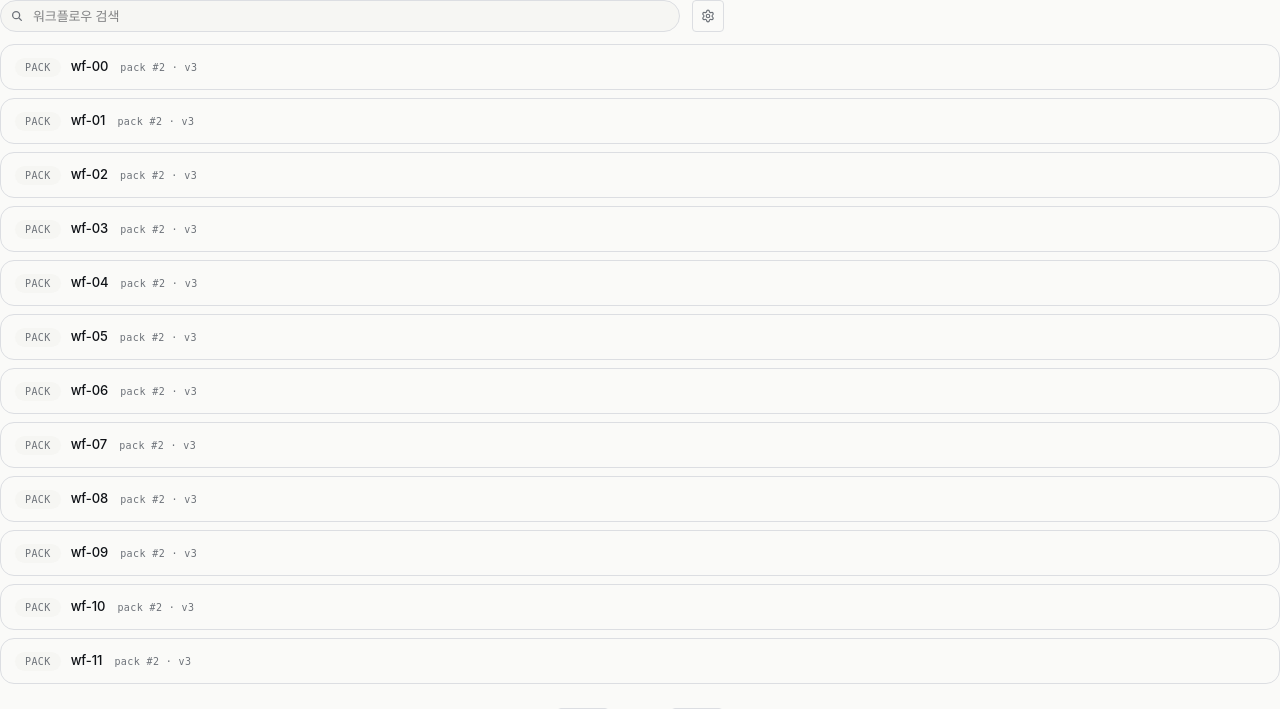
it: WorkflowListView › settings 톱니 토글로 panel 펼침/접힘
Click the button with test id "wl-settings-toggle" at (708, 16), box [692,0,724,32]
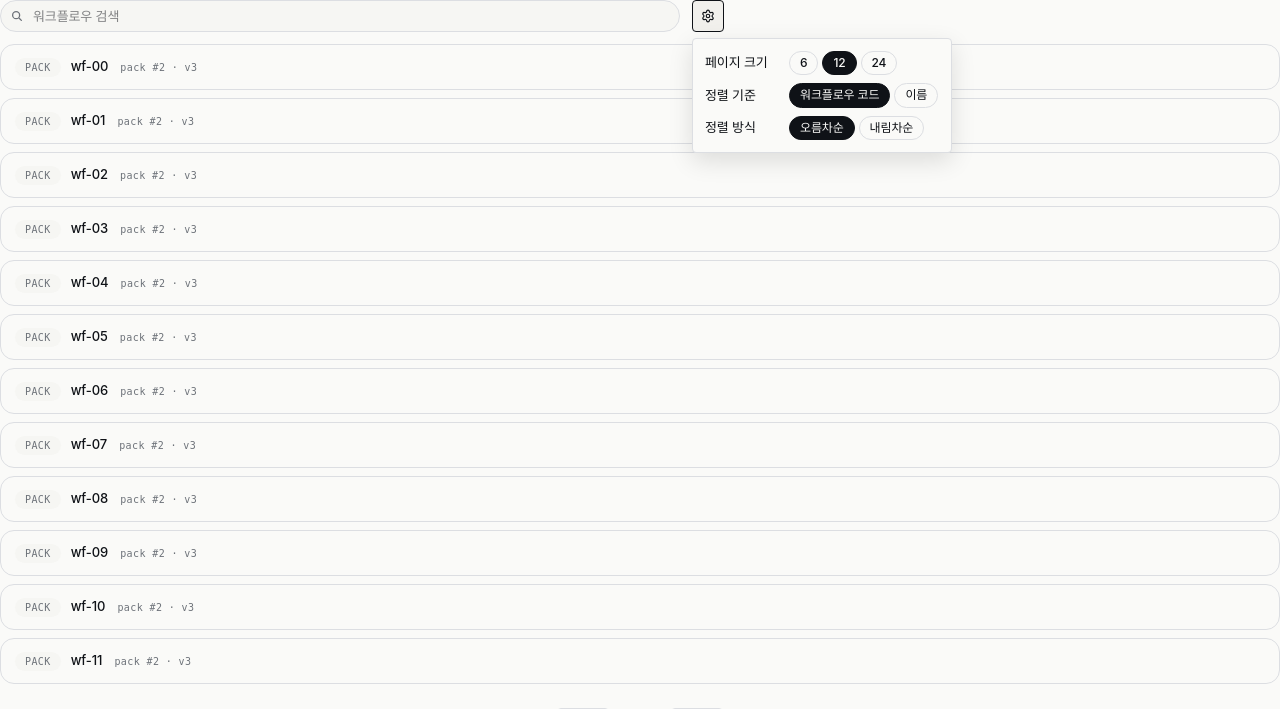
Result: the dialog with test id "wl-settings" is shown at [692,38,952,153]
Click the button with test id "wl-settings-toggle" at (708, 16), box [692,0,724,32]
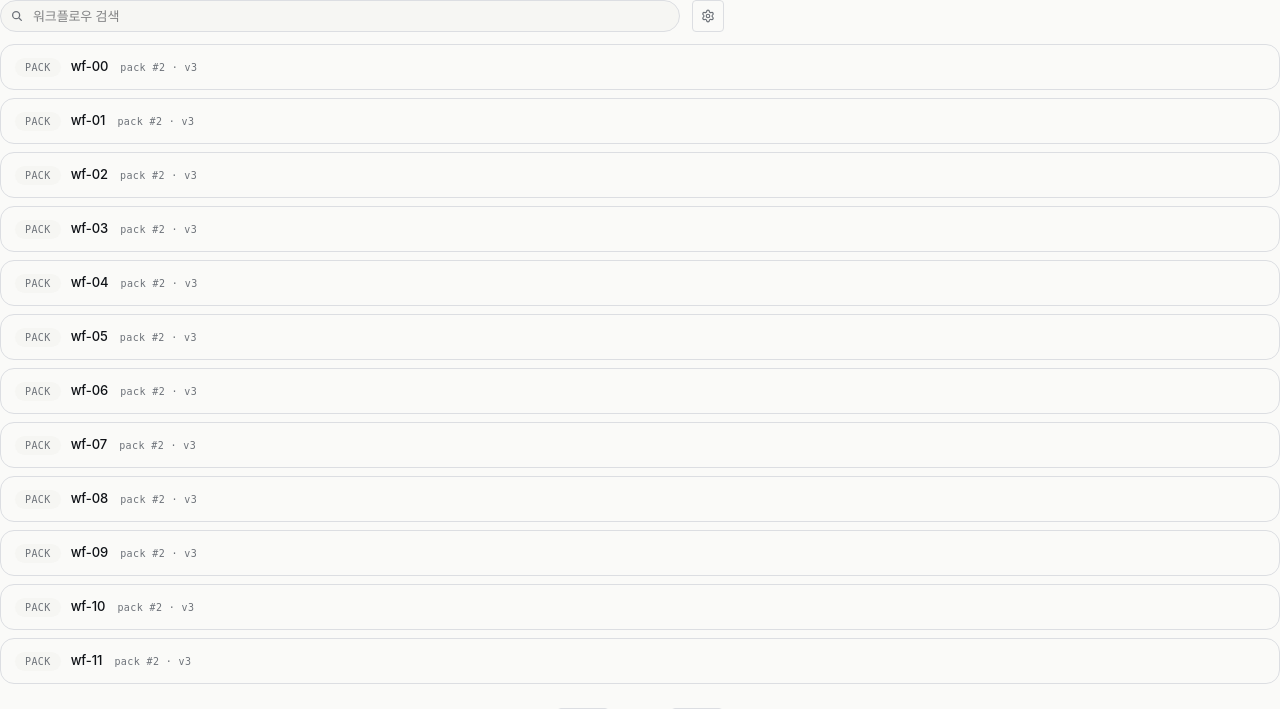
Result: the dialog with test id "wl-settings" is gone
